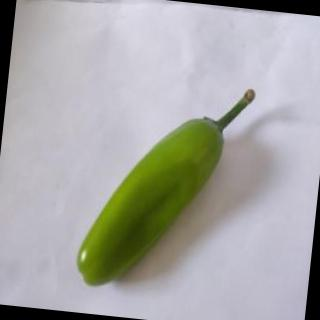Cabai Hijau: (62, 68, 261, 309)
